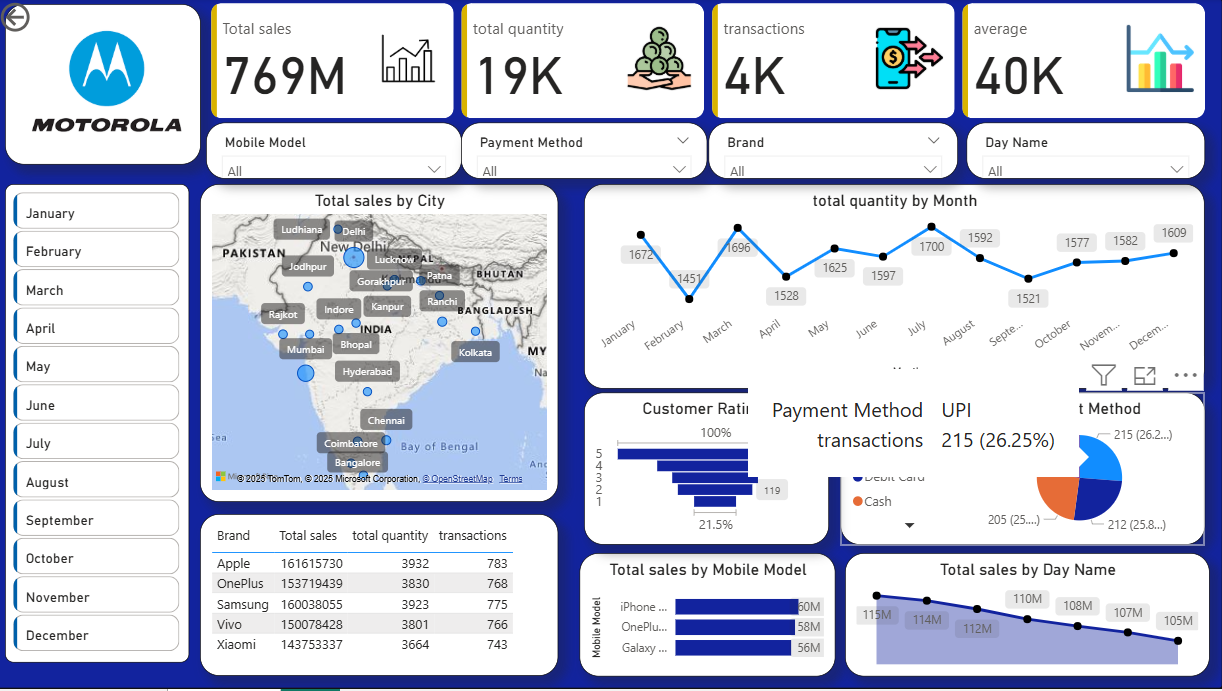

The dashboard page shown, as its layout file describes it:
{"tool":"powerbi","page":{"name":"Page 1","canvas":[1280,720],"ordinal":0},"visuals":[{"type":"shape","box":[9.6,5.8,203.8,167.3],"z":0},{"type":"image","box":[26.9,5.8,178.8,173.1],"z":1000},{"type":"advancedSlicerVisual","fields":{"Values":["Sales data.Date.Variation.Date Hierarchy.Month"]},"box":[10,193.3,191.7,498.3],"z":2000},{"type":"cardVisual","fields":{"Data":["Sales data.Total sales","Sales data.total quantity","Sales data.transactions","Sales data.average"]},"box":[218.3,0,1046.7,130],"z":3000},{"type":"azureMap","fields":{"Category":["Sales data.City"],"Size":["Sales data.Total sales"]},"box":[213.3,193.3,373.3,331.7],"z":4000},{"type":"lineChart","fields":{"Y":["Sales data.total quantity"],"Category":["Sales data.Date.Variation.Date Hierarchy.Month","Sales data.Date.Variation.Date Hierarchy.Day"]},"box":[613.3,193.3,646.7,213.3],"z":5000},{"type":"clusteredBarChart","fields":{"Category":["Sales data.Mobile Model"],"Y":["Sales data.Total sales"]},"box":[608.3,578.3,266.7,128.3],"z":6000},{"type":"pieChart","fields":{"Category":["Sales data.Payment Method"],"Y":["Sales data.transactions"]},"box":[880,411.7,380,158.3],"z":7000},{"type":"funnel","title":"Customer Ratings","fields":{"Category":["Sales data.Customer Ratings"],"Y":["CountNonNull(Sales data.Customer Ratings)"]},"box":[613.3,411.7,255,158.3],"z":8000},{"type":"areaChart","fields":{"Category":["Sales data.Day Name"],"Y":["Sales data.Total sales"]},"box":[885,578.3,380,128.3],"z":9000},{"type":"tableEx","fields":{"Values":["Sales data.Brand","Sales data.Total sales","Sales data.total quantity","Sales data.transactions"]},"box":[213.3,538.3,373.3,168.3],"z":10000},{"type":"actionButton","box":[0,0,100,40],"z":11000},{"type":"slicer","fields":{"Values":["Sales data.Mobile Model"]},"box":[218.3,130,266.7,58.3],"z":12000},{"type":"slicer","fields":{"Values":["Sales data.Payment Method"]},"box":[485,130,256.7,58.3],"z":13000},{"type":"slicer","fields":{"Values":["Sales data.Brand"]},"box":[741.7,130,260,58.3],"z":14000},{"type":"slicer","fields":{"Values":["Sales data.Day Name"]},"box":[1011.7,130,248.3,58.3],"z":15000}]}

Visuals, with their boxes in screenshot pixels (x1, y1, x2, y2), scaled from the page's 1280x720 canvas onto the 1222x691 screenshot:
shape: l=9, t=6, r=204, b=166
image: l=26, t=6, r=196, b=172
advancedSlicerVisual - Sales data.Date.Variation.Date Hierarchy.Month: l=10, t=186, r=193, b=664
cardVisual - Sales data.Total sales x Sales data.total quantity: l=208, t=0, r=1208, b=125
azureMap - Sales data.City x Sales data.Total sales: l=204, t=186, r=560, b=504
lineChart - Sales data.total quantity x Sales data.Date.Variation.Date Hierarchy.Month: l=586, t=186, r=1203, b=390
clusteredBarChart - Sales data.Mobile Model x Sales data.Total sales: l=581, t=555, r=835, b=678
pieChart - Sales data.Payment Method x Sales data.transactions: l=840, t=395, r=1203, b=547
"Customer Ratings" funnel: l=586, t=395, r=829, b=547
areaChart - Sales data.Day Name x Sales data.Total sales: l=845, t=555, r=1208, b=678
tableEx - Sales data.Brand x Sales data.Total sales: l=204, t=517, r=560, b=678
actionButton: l=0, t=0, r=95, b=38
slicer - Sales data.Mobile Model: l=208, t=125, r=463, b=181
slicer - Sales data.Payment Method: l=463, t=125, r=708, b=181
slicer - Sales data.Brand: l=708, t=125, r=956, b=181
slicer - Sales data.Day Name: l=966, t=125, r=1203, b=181
